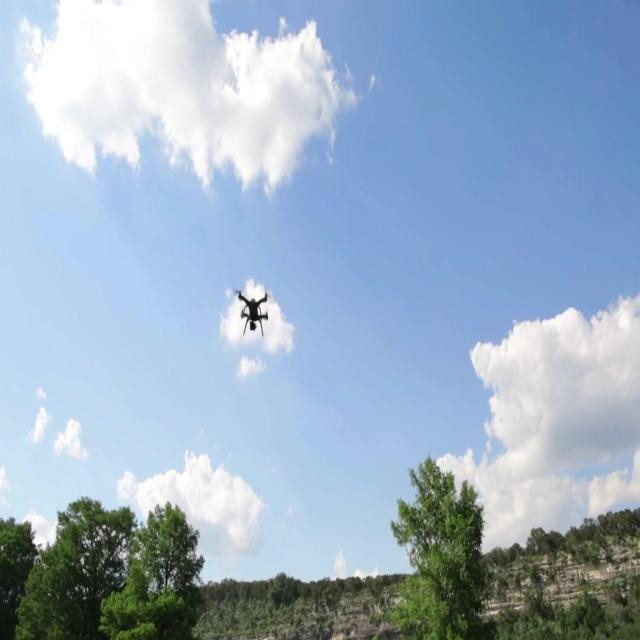drone: (236, 286, 270, 340)
